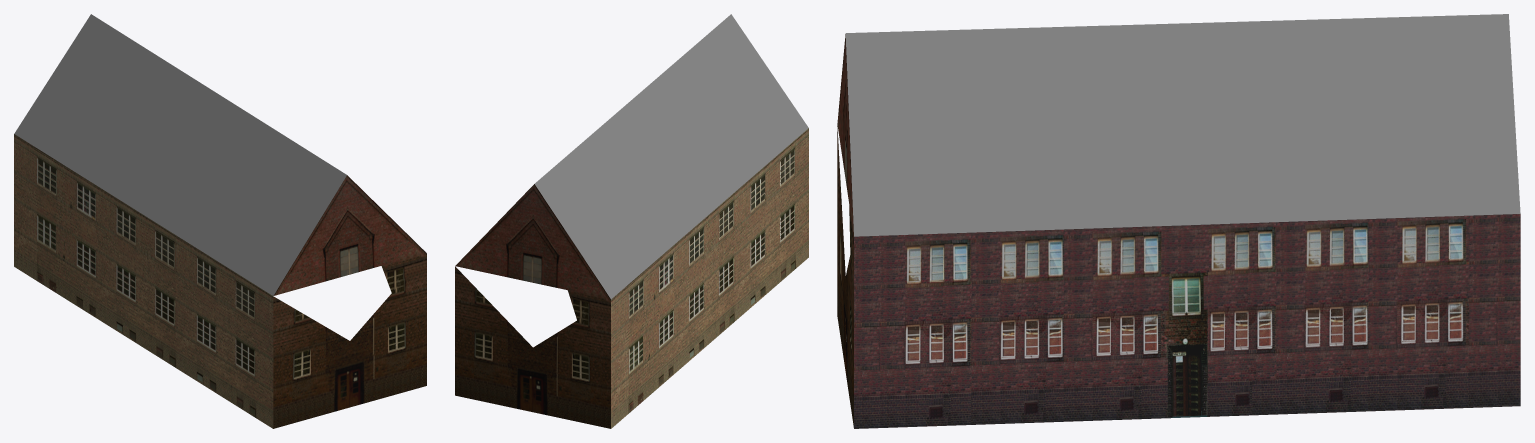
The model's file is Verwaltungsgebaeude_1.gltf.
The picture shows the model from 3 angles, left to right: view 1: azimuth 30°, elevation 25°; view 2: azimuth 150°, elevation 25°; view 3: azimuth 270°, elevation 25°; orthographic projection. The views are drawn at different scales.
Parts seen in each view (by area): view 1: Dach.1; view 2: Dach.1; view 3: Dach.1.
Boxes of the visible parts, left/top/right/bottom form: Dach.1: left=14, top=14, right=426, bottom=428; Dach.1: left=455, top=14, right=808, bottom=428; Dach.1: left=837, top=14, right=1520, bottom=428.
Bounding box in the file's own units: 12.67 × 15.06 × 27.62.
4 materials, 3 textured.
